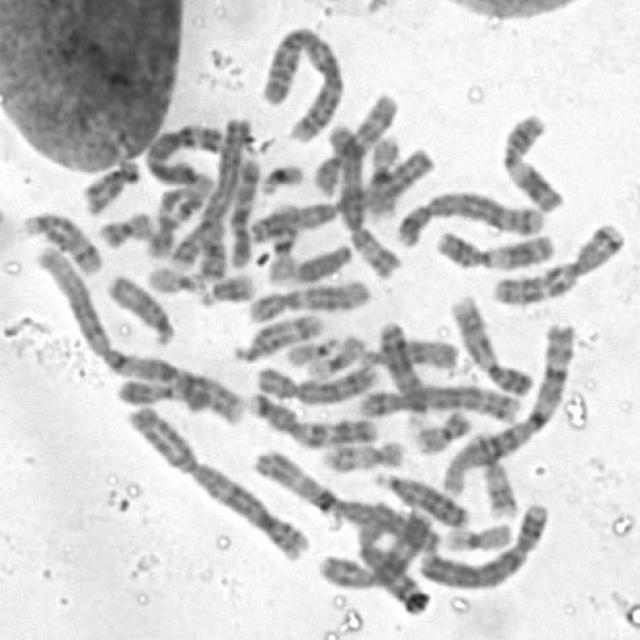A1: (25, 233, 248, 427), (436, 316, 578, 496)
A2: (121, 398, 312, 563), (256, 19, 346, 144)
A3: (247, 443, 443, 552), (249, 150, 441, 238)
B4: (162, 113, 252, 272), (415, 497, 552, 590)
B5: (391, 184, 547, 247), (354, 378, 527, 424)
C10: (308, 87, 402, 197), (223, 148, 262, 270)
C11: (496, 106, 568, 215), (431, 223, 560, 272)
C12: (240, 272, 372, 323), (140, 172, 211, 262)
C6: (324, 118, 406, 279), (140, 118, 227, 191)
C7: (485, 216, 628, 306), (245, 386, 382, 447)
C8: (351, 510, 433, 616), (250, 358, 380, 406)
C9: (444, 289, 538, 398), (113, 369, 249, 426)
D13: (368, 465, 473, 530), (374, 316, 431, 427)
D14: (17, 206, 105, 276), (228, 306, 325, 363)
D15: (102, 268, 178, 346), (352, 332, 462, 370)
E16: (360, 128, 402, 220), (262, 197, 302, 285)
E17: (467, 426, 522, 520), (315, 434, 408, 473)
E18: (76, 152, 142, 217), (198, 224, 231, 278)
F19: (299, 328, 370, 382), (440, 516, 516, 554)
F20: (409, 403, 475, 455), (94, 205, 158, 250)
G21: (193, 267, 258, 307), (254, 157, 307, 197)
G22: (280, 330, 344, 367), (142, 260, 208, 294)
X: (312, 503, 436, 590)
Y: (288, 236, 356, 284)
